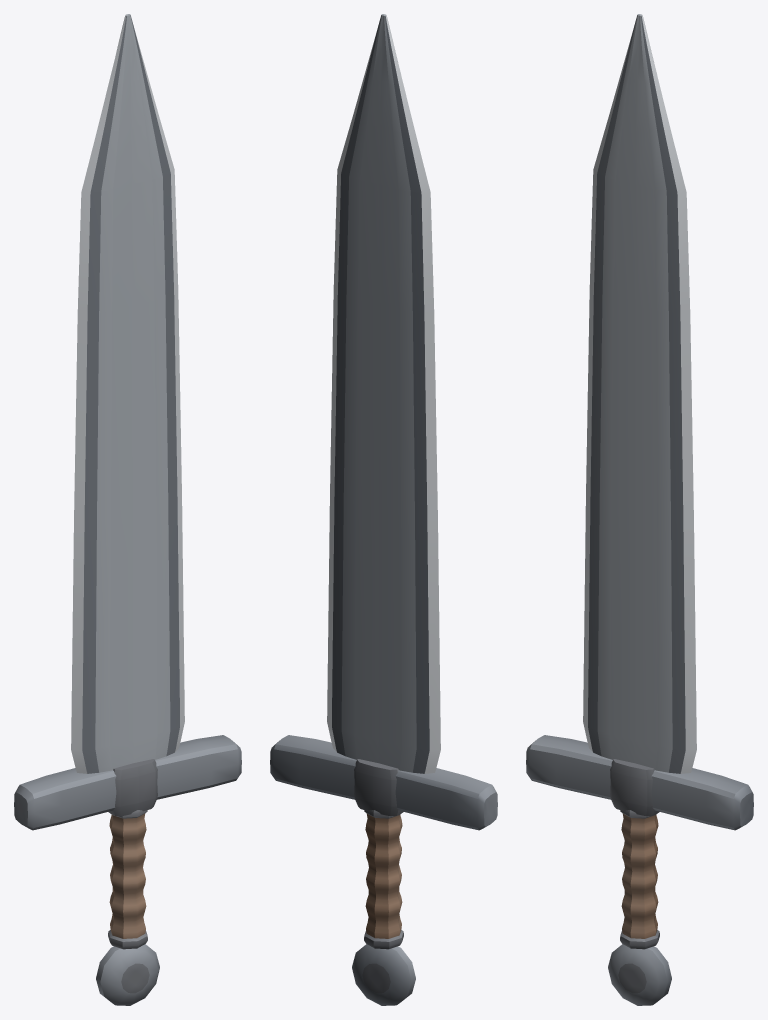
File: wayfarer-longsword.glb
The picture shows the model from 3 angles, left to right: view 1: azimuth 30°, elevation 25°; view 2: azimuth 150°, elevation 25°; view 3: azimuth 330°, elevation 25°; orthographic projection.
Parts seen in each view (by area): view 1: WPN_01_Sword_T1_Common__BLADE.001, WPN_01_Sword_T1_Common__GUARD.001, WPN_01_Sword_T1_Common__GRIP.001, WPN_01_Sword_T1_Common__POMMEL.001; view 2: WPN_01_Sword_T1_Common__BLADE.001, WPN_01_Sword_T1_Common__GUARD.001, WPN_01_Sword_T1_Common__GRIP.001, WPN_01_Sword_T1_Common__POMMEL.001; view 3: WPN_01_Sword_T1_Common__BLADE.001, WPN_01_Sword_T1_Common__GUARD.001, WPN_01_Sword_T1_Common__GRIP.001, WPN_01_Sword_T1_Common__POMMEL.001.
Part boxes in pixels (x1,y1,x2,y2): WPN_01_Sword_T1_Common__BLADE.001: [71, 14, 184, 773]; WPN_01_Sword_T1_Common__GUARD.001: [14, 735, 241, 830]; WPN_01_Sword_T1_Common__GRIP.001: [108, 810, 147, 949]; WPN_01_Sword_T1_Common__POMMEL.001: [96, 944, 159, 1005]; WPN_01_Sword_T1_Common__BLADE.001: [327, 14, 440, 773]; WPN_01_Sword_T1_Common__GUARD.001: [270, 735, 497, 830]; WPN_01_Sword_T1_Common__GRIP.001: [364, 810, 403, 949]; WPN_01_Sword_T1_Common__POMMEL.001: [352, 944, 415, 1005]; WPN_01_Sword_T1_Common__BLADE.001: [583, 14, 696, 773]; WPN_01_Sword_T1_Common__GUARD.001: [526, 735, 753, 830]; WPN_01_Sword_T1_Common__GRIP.001: [620, 810, 659, 949]; WPN_01_Sword_T1_Common__POMMEL.001: [608, 944, 671, 1005].
Bounding box in the file's own units: 0.86 × 3.8 × 0.152.
1 material, 1 textured.
